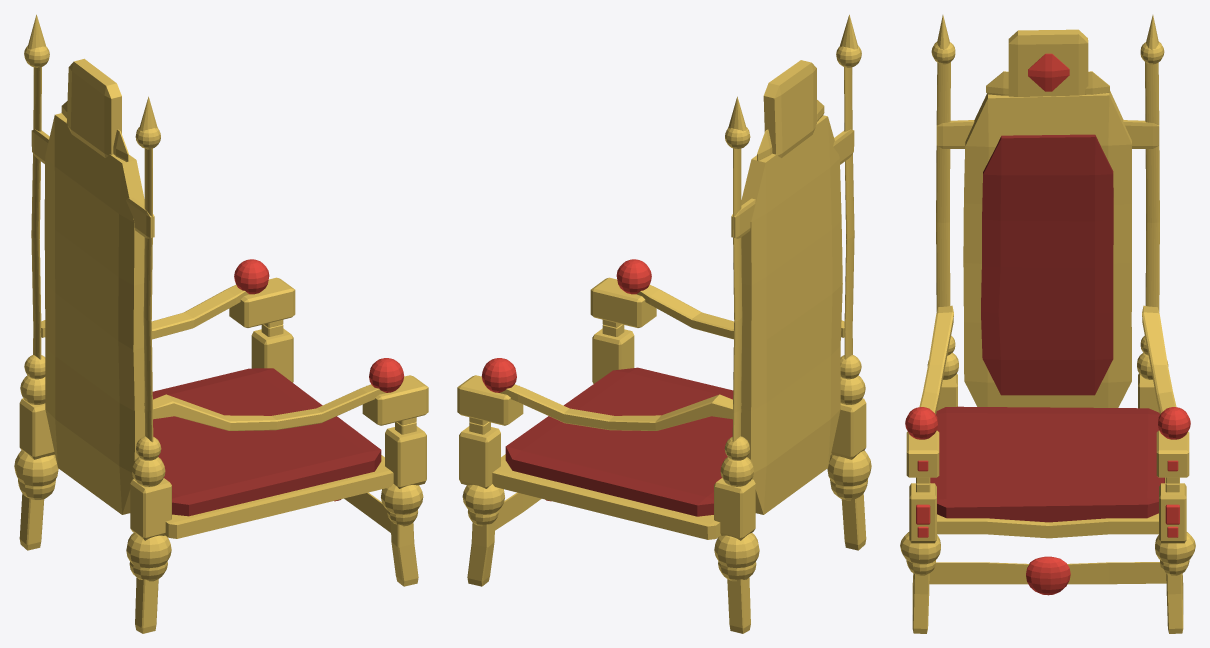
The model's file is Throne.fbx.
3 renders of one model, left to right at view 1: azimuth 30°, elevation 25°; view 2: azimuth 150°, elevation 25°; view 3: azimuth 270°, elevation 25°, orthographic. The views are drawn at different scales.
Visible parts, largest first — view 1: Cube.009, Cube.001, Cube.016, Cylinder, Cube, Cube.007, Cube.011, Cube.002, Cube.014, Sphere.003, Cube.018, Sphere.004 (+9 smaller); view 2: Cube.009, Cube.001, Cube.016, Cube, Cylinder, Cube.007, Cube.011, Cube.002, Cube.014, Sphere.003, Cube.018, Sphere.004 (+9 smaller); view 3: Cube.010, Cube.001, Cube.009, Cylinder, Cube.019, Cube.011, Cube.016, Cube, Cube.007, Cube.002, Cube.017, Cube.015 (+11 smaller).
Part boxes in pixels (x1,y1,x2,y2): Cube.009: [44, 113, 144, 514]; Cube.001: [152, 368, 381, 516]; Cube.016: [41, 285, 385, 430]; Cylinder: [31, 67, 153, 442]; Cube: [54, 453, 393, 538]; Cube.007: [229, 277, 428, 425]; Cube.011: [66, 58, 121, 157]; Cube.002: [251, 328, 426, 488]; Cube.014: [19, 398, 171, 540]; Sphere.003: [14, 450, 171, 568]; Cube.018: [19, 494, 158, 633]; Sphere.004: [234, 259, 404, 392]; Cube.009: [741, 115, 842, 514]; Cube.001: [505, 367, 733, 516]; Cube.016: [500, 285, 844, 430]; Cube: [492, 453, 831, 539]; Cylinder: [732, 67, 854, 442]; Cube.007: [457, 277, 656, 425]; Cube.011: [763, 60, 816, 157]; Cube.002: [459, 328, 634, 488]; Cube.014: [714, 398, 866, 540]; Sphere.003: [714, 450, 871, 568]; Cube.018: [727, 494, 866, 633]; Sphere.004: [481, 259, 651, 392]; Cube.010: [981, 134, 1113, 395]; Cube.001: [930, 406, 1164, 522]; Cube.009: [963, 91, 1131, 407]; Cylinder: [936, 62, 1159, 311]; Cube.019: [929, 562, 1166, 584]; Cube.011: [1008, 29, 1088, 96]; Cube.016: [919, 305, 1176, 414]; Cube: [937, 477, 1165, 538]; Cube.007: [906, 430, 1189, 477]; Cube.002: [909, 483, 1186, 543]; Cube.017: [912, 573, 1183, 633]; Cube.015: [936, 120, 1159, 148].
Bounding box in the file's own units: 121 × 219 × 117.
